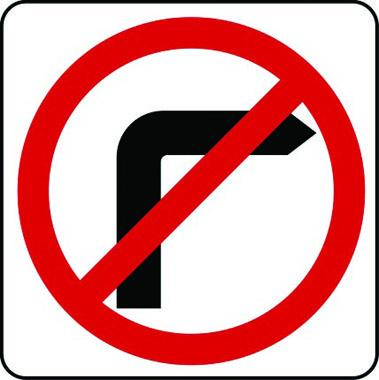no_right_turn: (17, 17, 365, 365)
